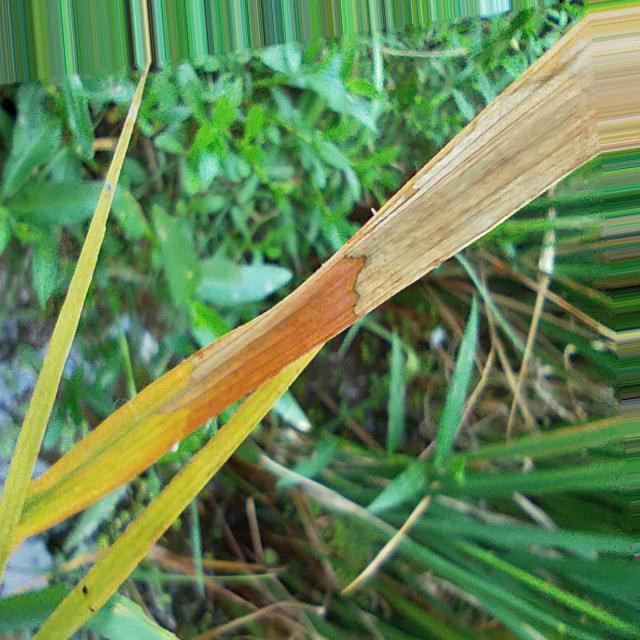Leaf_Blast: (35, 348, 321, 638), (0, 65, 149, 582)
Rice False Smut: (176, 25, 599, 431), (349, 18, 608, 315)
